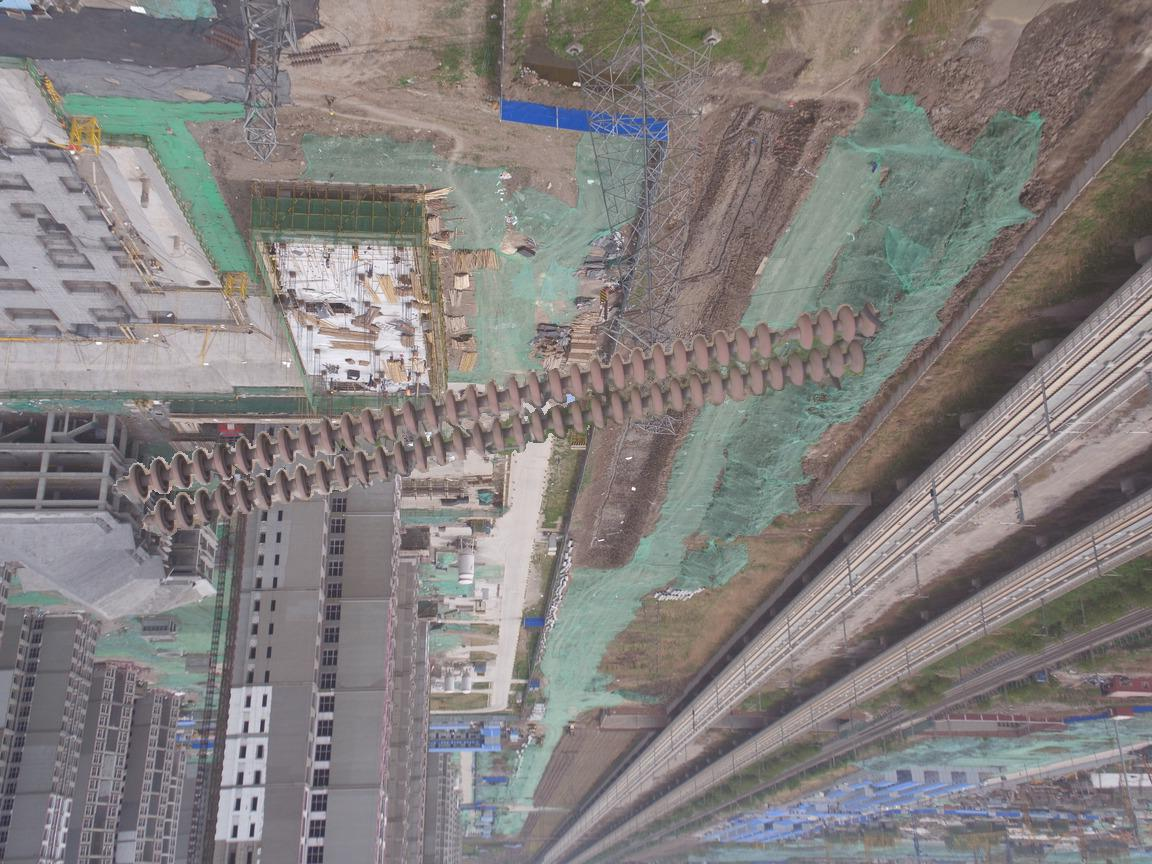insulator: (124, 298, 882, 536), (203, 23, 245, 58), (284, 48, 324, 70), (244, 36, 263, 76), (308, 39, 346, 58)
insulator_stringdrop: (753, 310, 817, 361)
